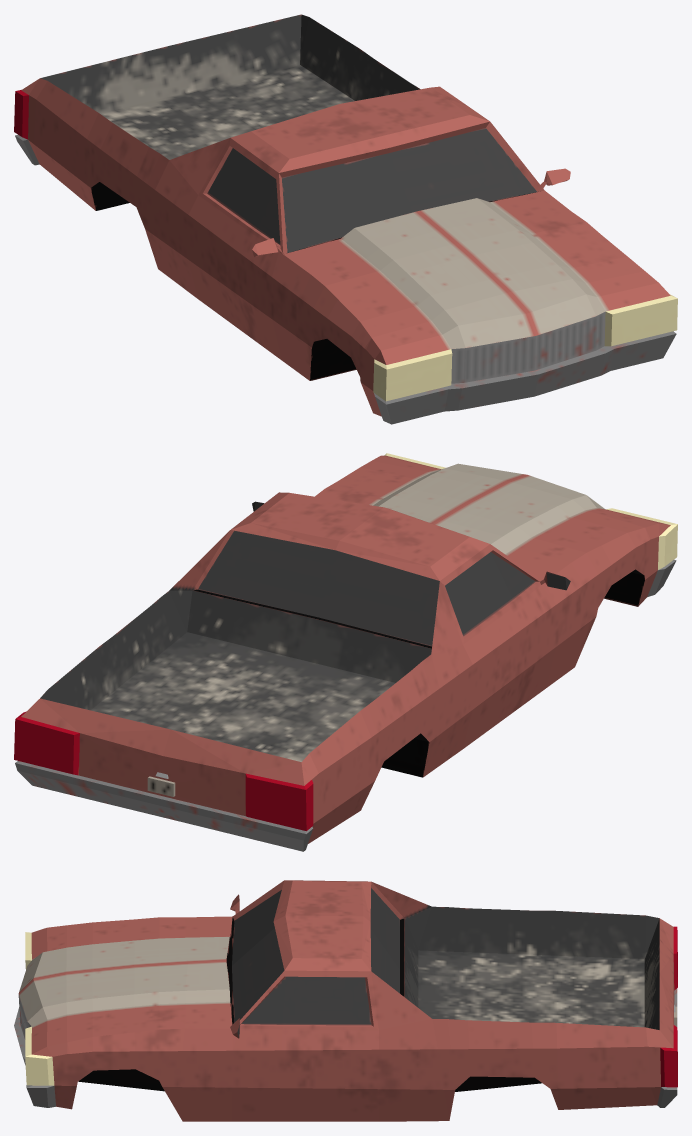
The model's file is Camino.fbx.
The picture shows the model from 3 angles, top to bottom: view 1: azimuth 30°, elevation 25°; view 2: azimuth 150°, elevation 25°; view 3: azimuth 270°, elevation 25°; orthographic projection. The views are drawn at different scales.
Parts seen in each view (by area): view 1: El Camino; view 2: El Camino; view 3: El Camino.
Boxes of the visible parts, x1=… form: El Camino: x1=14, y1=14, x2=677, y2=424; El Camino: x1=14, y1=453, x2=677, y2=851; El Camino: x1=14, y1=880, x2=677, y2=1121.
Bounding box in the file's own units: 3.18 × 1.62 × 6.53.
